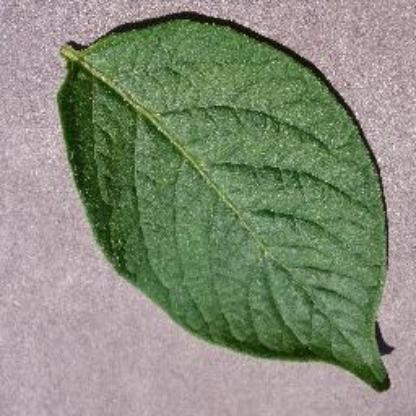Healthy-plant: (53, 17, 403, 391)
